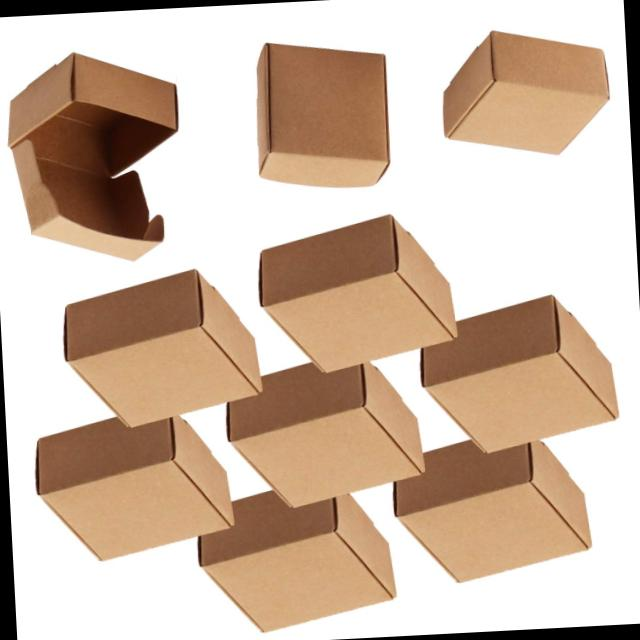cardboard_box: (0, 23, 214, 278), (19, 250, 292, 448), (216, 188, 477, 380), (372, 427, 604, 606), (195, 354, 432, 517), (409, 283, 617, 466), (20, 413, 258, 562), (418, 21, 616, 178), (193, 493, 403, 639), (235, 22, 384, 202)
